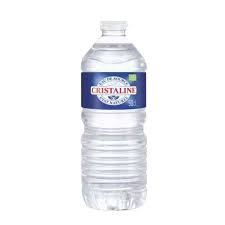bottle: (76, 16, 150, 214)
